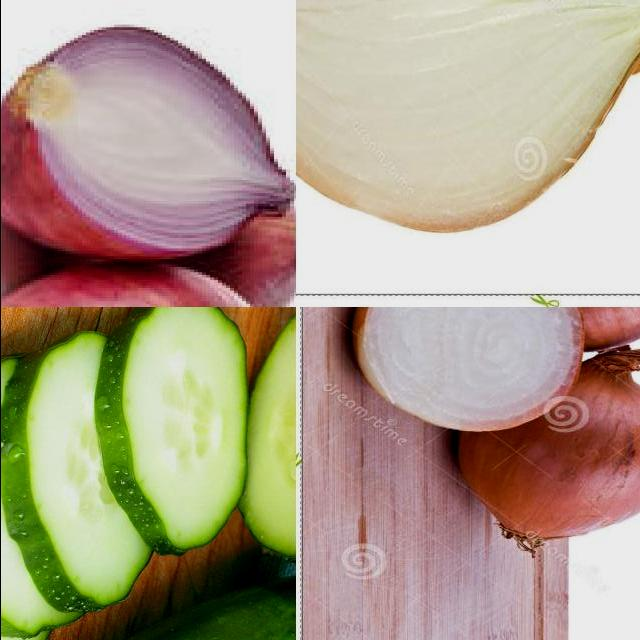cucumber: (1, 565, 296, 640)
onion: (296, 1, 640, 239), (1, 23, 296, 266), (449, 355, 640, 543), (345, 308, 590, 435)
